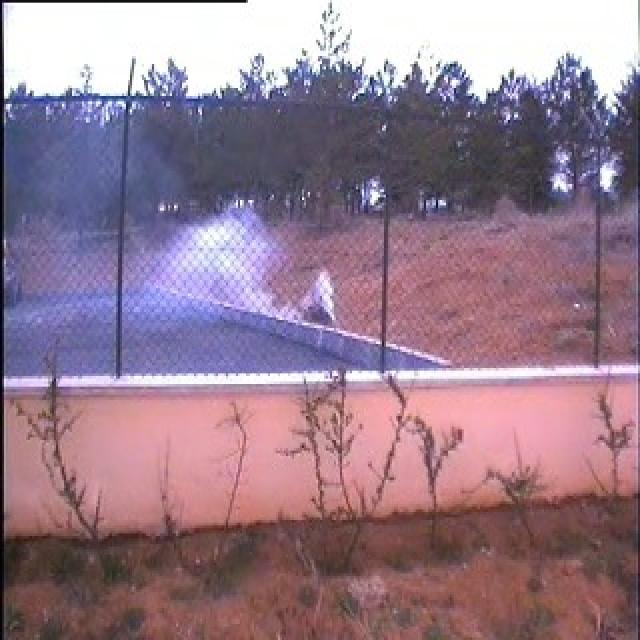Smoke: (138, 208, 276, 319)
